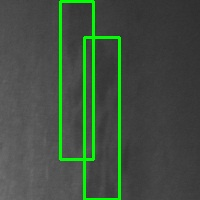inclusion: (84, 37, 119, 199), (60, 1, 93, 159)
